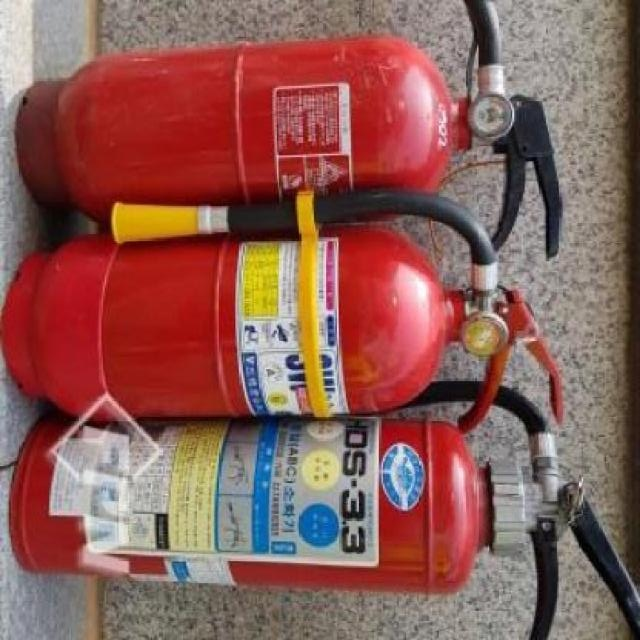fire extinguisher: (11, 378, 640, 640), (16, 0, 564, 260), (0, 188, 565, 435)
